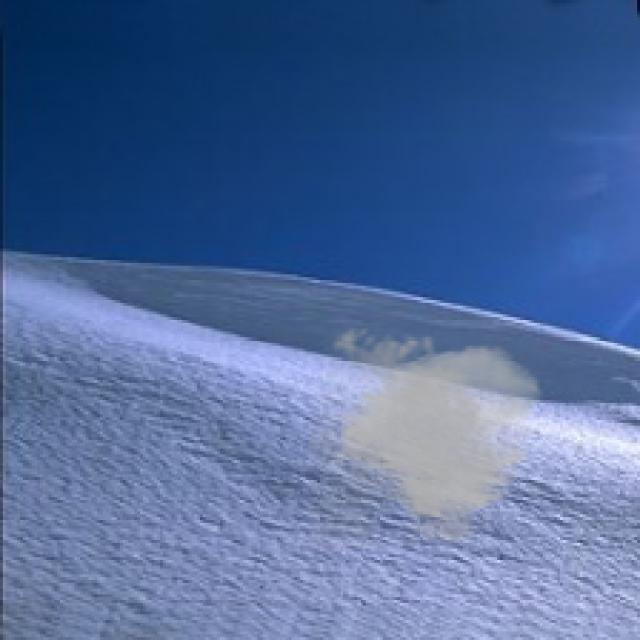smoke: (308, 320, 546, 551)
